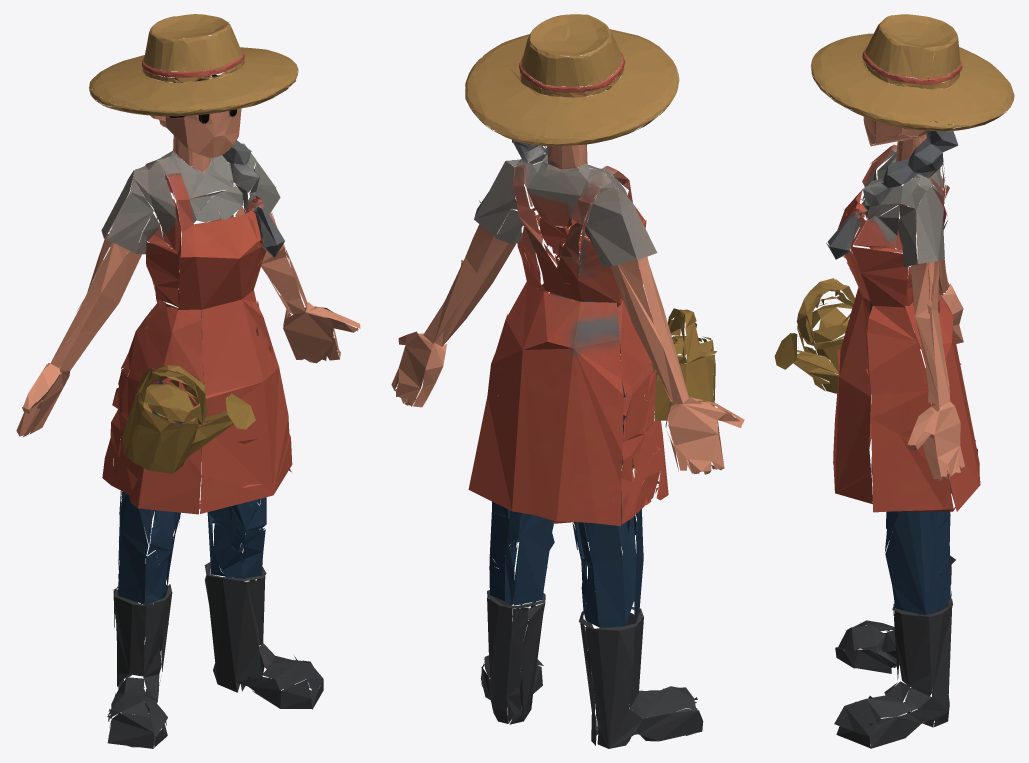
The model's file is habitant.glb.
3 views of the same model, side by side, from view 1: azimuth 30°, elevation 25°; view 2: azimuth 150°, elevation 25°; view 3: azimuth 270°, elevation 25° (orthographic). The views are drawn at different scales.
Parts seen in each view (by area): view 1: world; view 2: world; view 3: world.
Boxes of the visible parts, bbox=[...] form: world: bbox=[16, 14, 360, 748]; world: bbox=[391, 14, 744, 748]; world: bbox=[774, 14, 1014, 748].
Size of the model in its own units: 0.5226 by 1.01 by 0.3262.
Materials: 1 (1 with a texture image).
